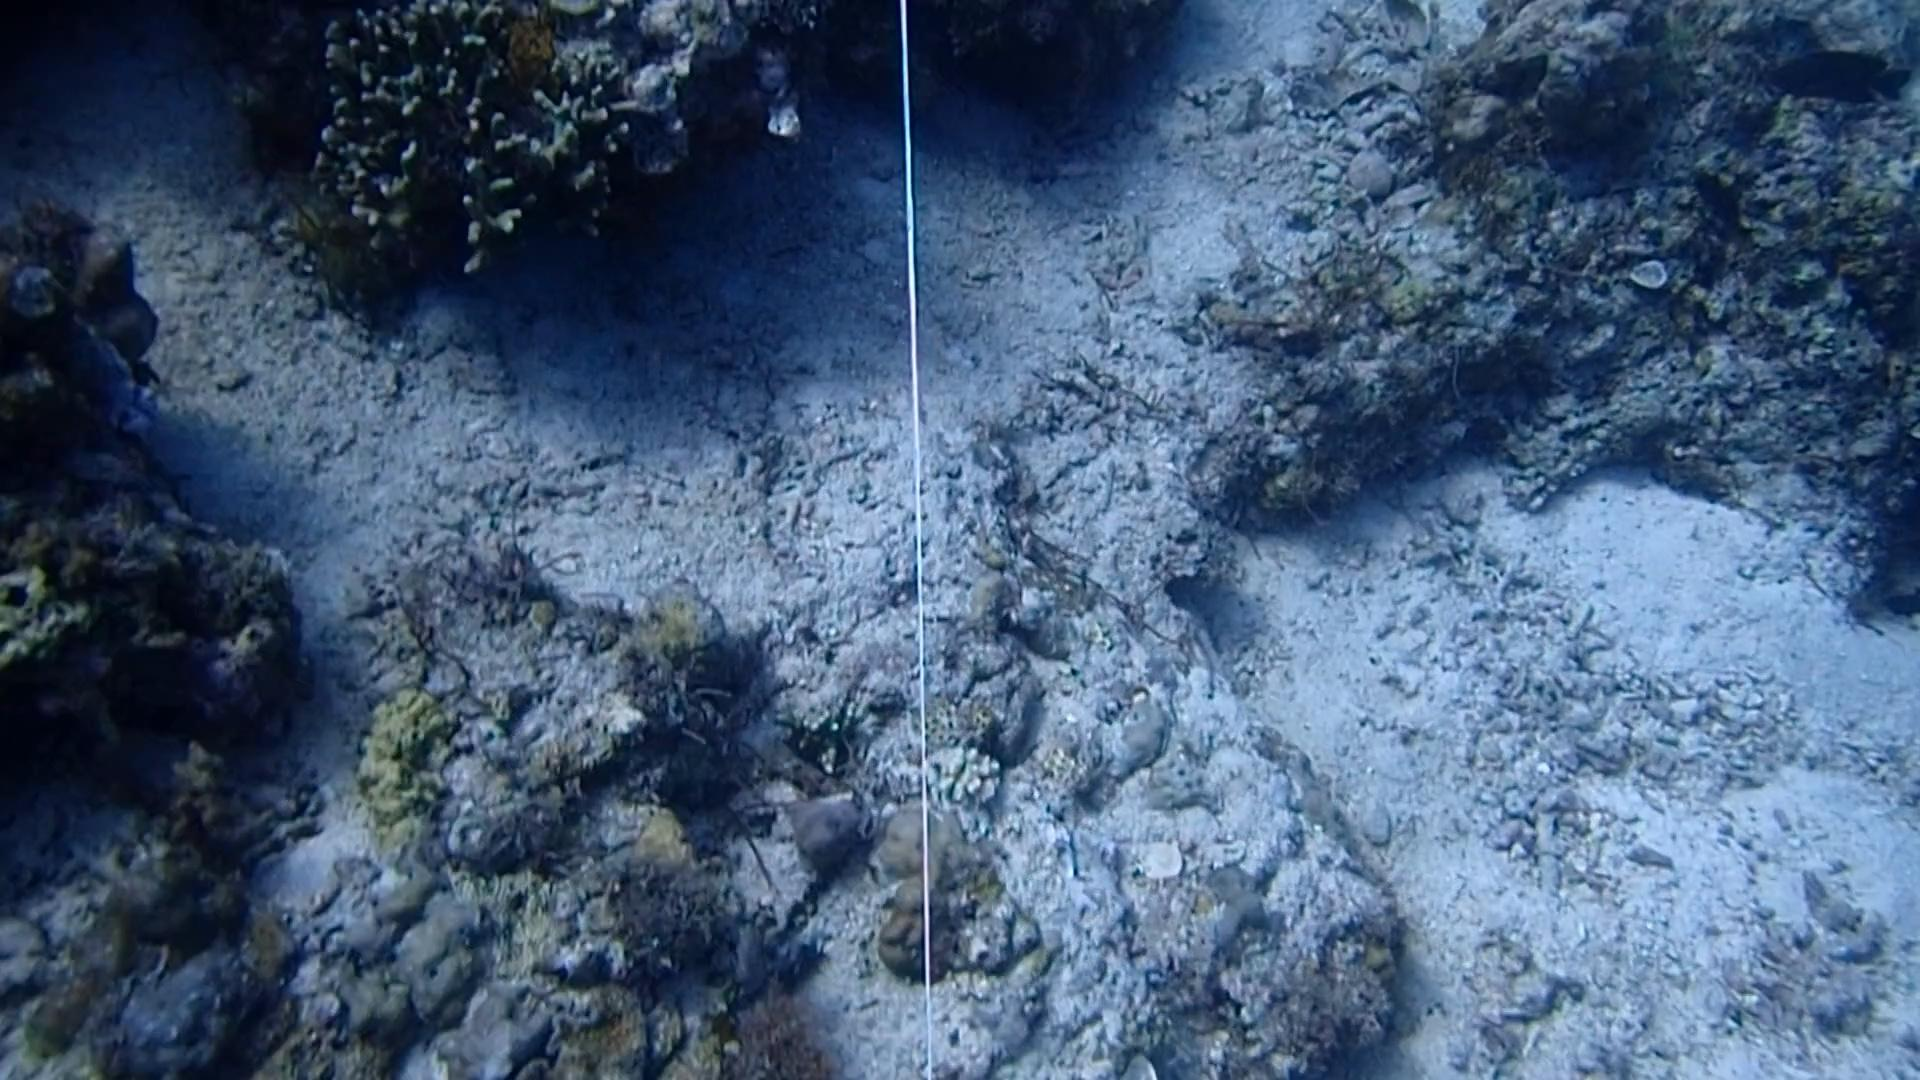Dark Fish: (1755, 40, 1919, 120), (1697, 160, 1743, 252)
